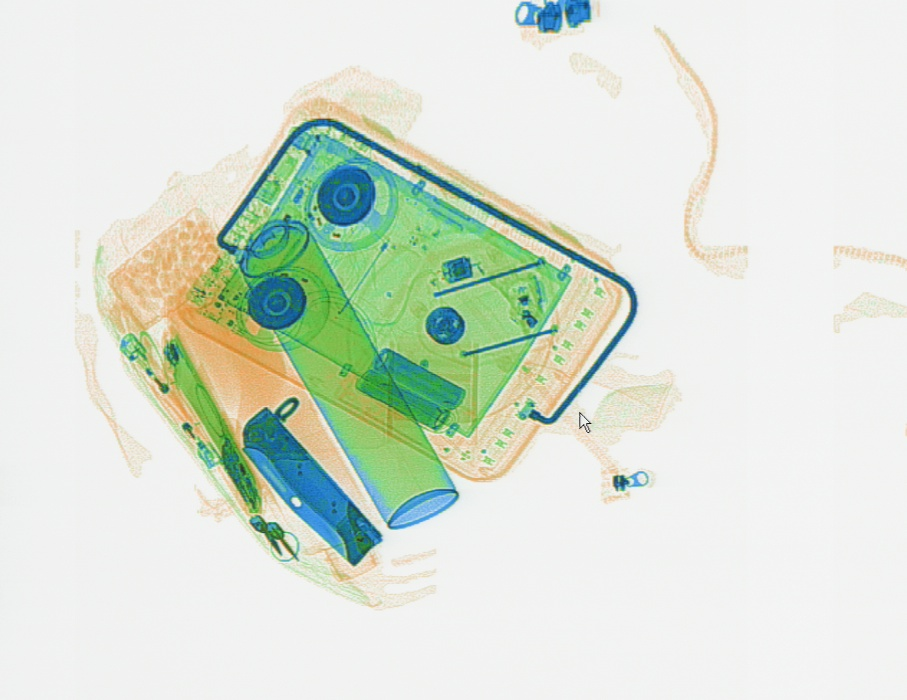knife: (237, 405, 384, 567)
lighter: (115, 331, 193, 429), (150, 378, 221, 470)
pressure: (235, 216, 458, 529)
